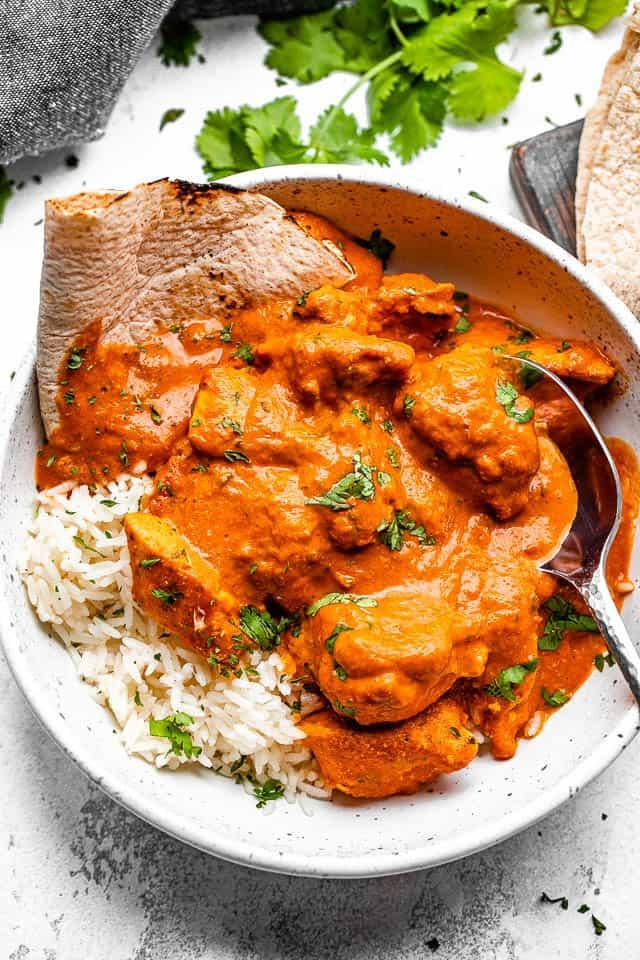chicken: (142, 326, 620, 832)
rice: (25, 499, 162, 725)
roti: (55, 196, 300, 327)
